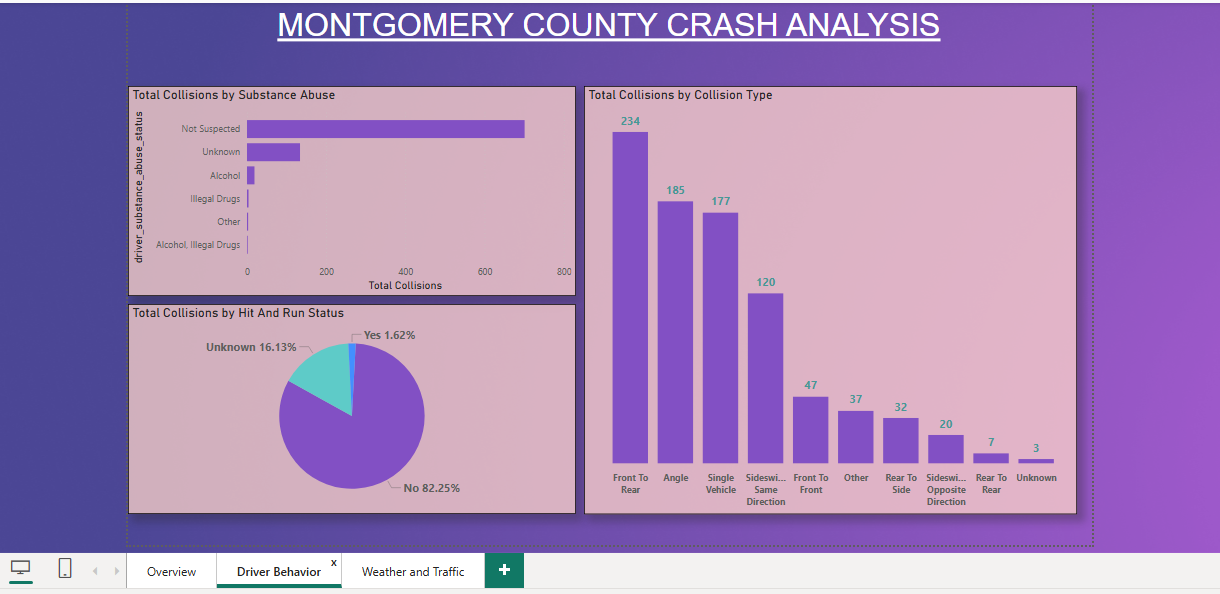

The dashboard page shown, as its layout file describes it:
{"tool":"powerbi","page":{"name":"Driver Behavior","canvas":[1280,720],"ordinal":1},"visuals":[{"type":"clusteredBarChart","title":"Total Collisions by Substance Abuse","fields":{"Category":["Driver Substance Abuse.driver_substance_abuse_status"],"Y":["_Measures.Total Collisions"]},"box":[0,110.1,594.9,278.9],"z":0},{"type":"pieChart","title":"Total Collisions by Hit And Run Status","fields":{"Category":["Hit/Run.hit_run_status"],"Y":["_Measures.Total Collisions"]},"box":[0,400.4,594.9,278.9],"z":1000},{"type":"clusteredColumnChart","title":"Total Collisions by Collision Type","fields":{"Y":["_Measures.Total Collisions"],"Category":["Collision Type.collision_type_status"]},"box":[606.4,110.1,655,569.2],"z":2000},{"type":"textbox","box":[150.7,0,977.6,84.9],"z":3000}]}

Visuals, with their boxes on the page's 1280x720 design canvas (x1, y1, x2, y2). These are canvas units, not pixel positions in the 1220x594 screenshot, which may show the page scaled, cropped or inside an application window:
"Total Collisions by Substance Abuse" clusteredBarChart: BBox(0, 110, 595, 389)
"Total Collisions by Hit And Run Status" pieChart: BBox(0, 400, 595, 679)
"Total Collisions by Collision Type" clusteredColumnChart: BBox(606, 110, 1261, 679)
textbox: BBox(151, 0, 1128, 85)
